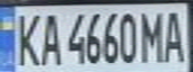0: (118, 9, 142, 64)
4: (63, 9, 87, 65)
6: (84, 8, 106, 65), (100, 8, 121, 65)
A: (157, 7, 190, 63), (36, 9, 63, 66)
K: (9, 9, 42, 68)
M: (139, 8, 166, 64)
